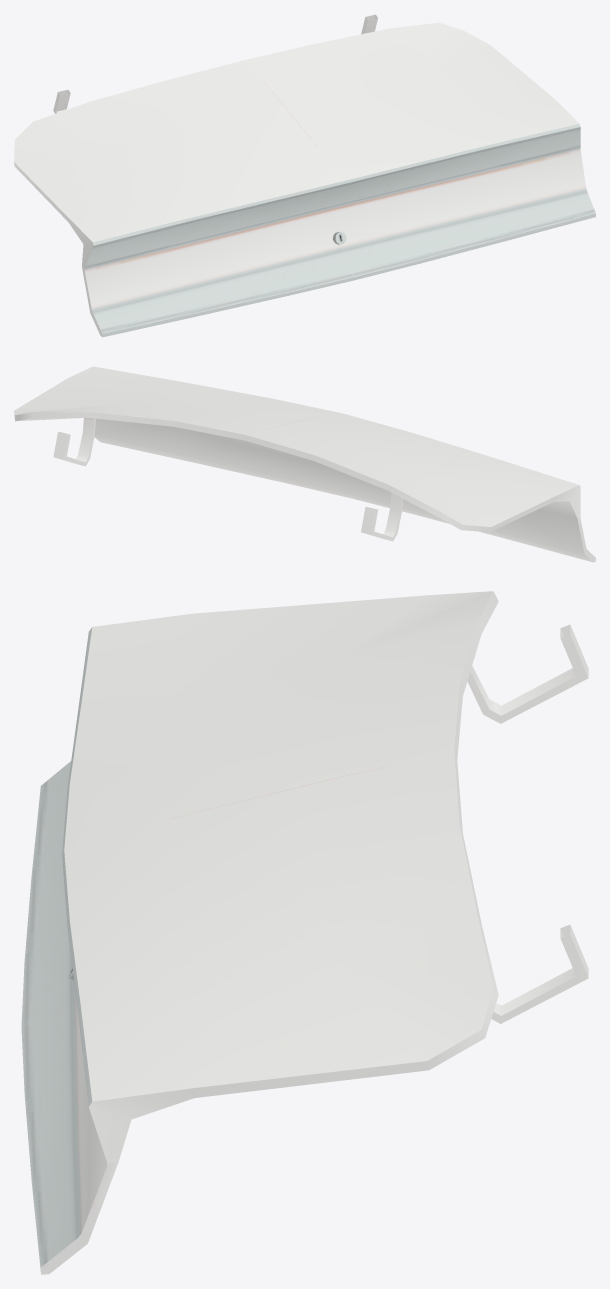
Rendered from car_trunk_white.glb.
3 renders of one model, top to bottom at view 1: azimuth 30°, elevation 25°; view 2: azimuth 150°, elevation 25°; view 3: azimuth 270°, elevation 25°, orthographic. The views are drawn at different scales.
Parts seen in each view (by area): view 1: trunk_car_0; view 2: trunk_car_0; view 3: trunk_car_0.
Boxes of the visible parts, left/top/right/bottom form: trunk_car_0: left=14, top=14, right=595, bottom=337; trunk_car_0: left=14, top=366, right=595, bottom=562; trunk_car_0: left=21, top=591, right=588, bottom=1274.
Bounding box in the file's own units: 1.28 × 0.3486 × 0.6316.
1 material, 1 textured.
